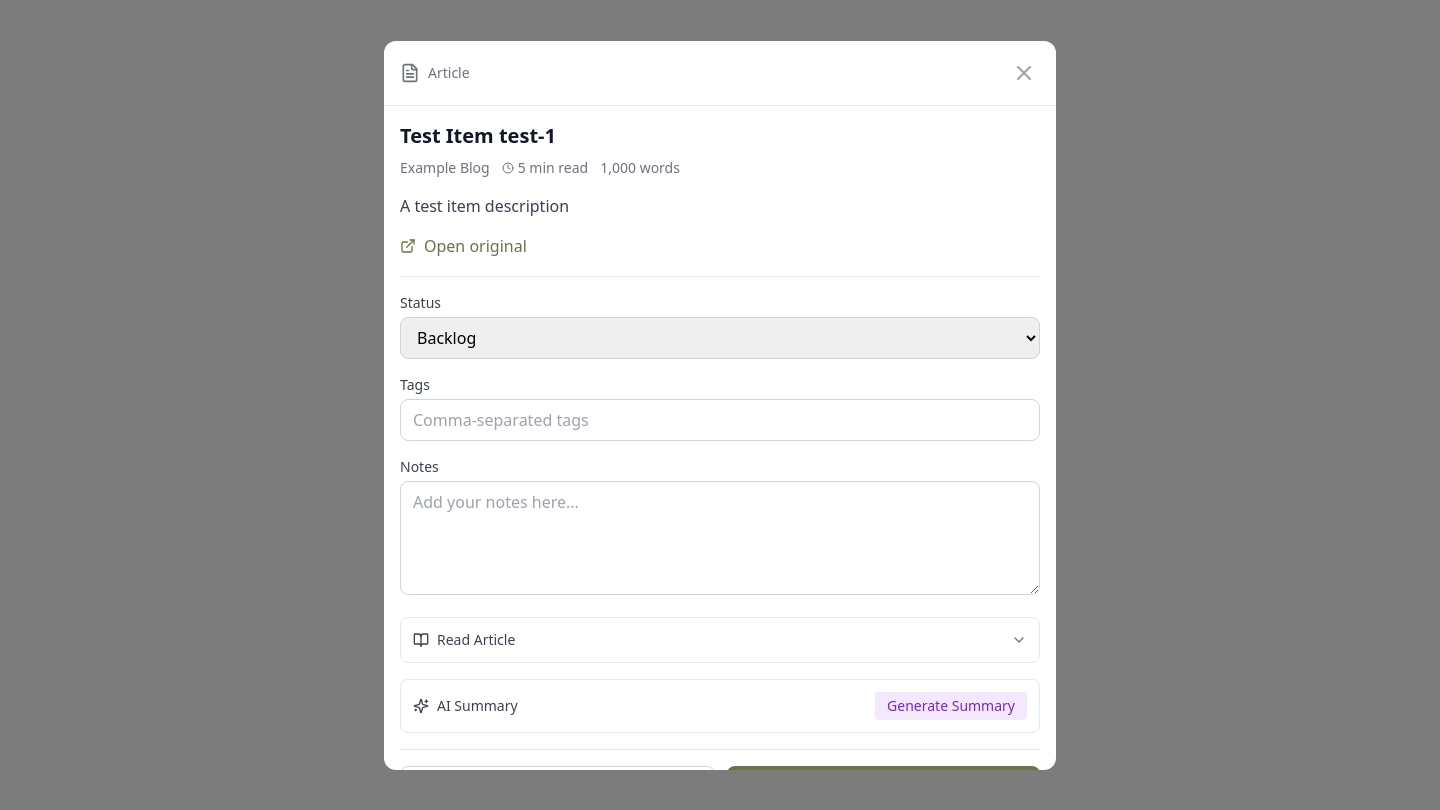
Scenario: InterestDetail › AI summary › shows loading state while generating
The image size is (1440, 810).
Step 1. Click the button "Generate Summary" → (951, 706), box [875,692,1027,720]
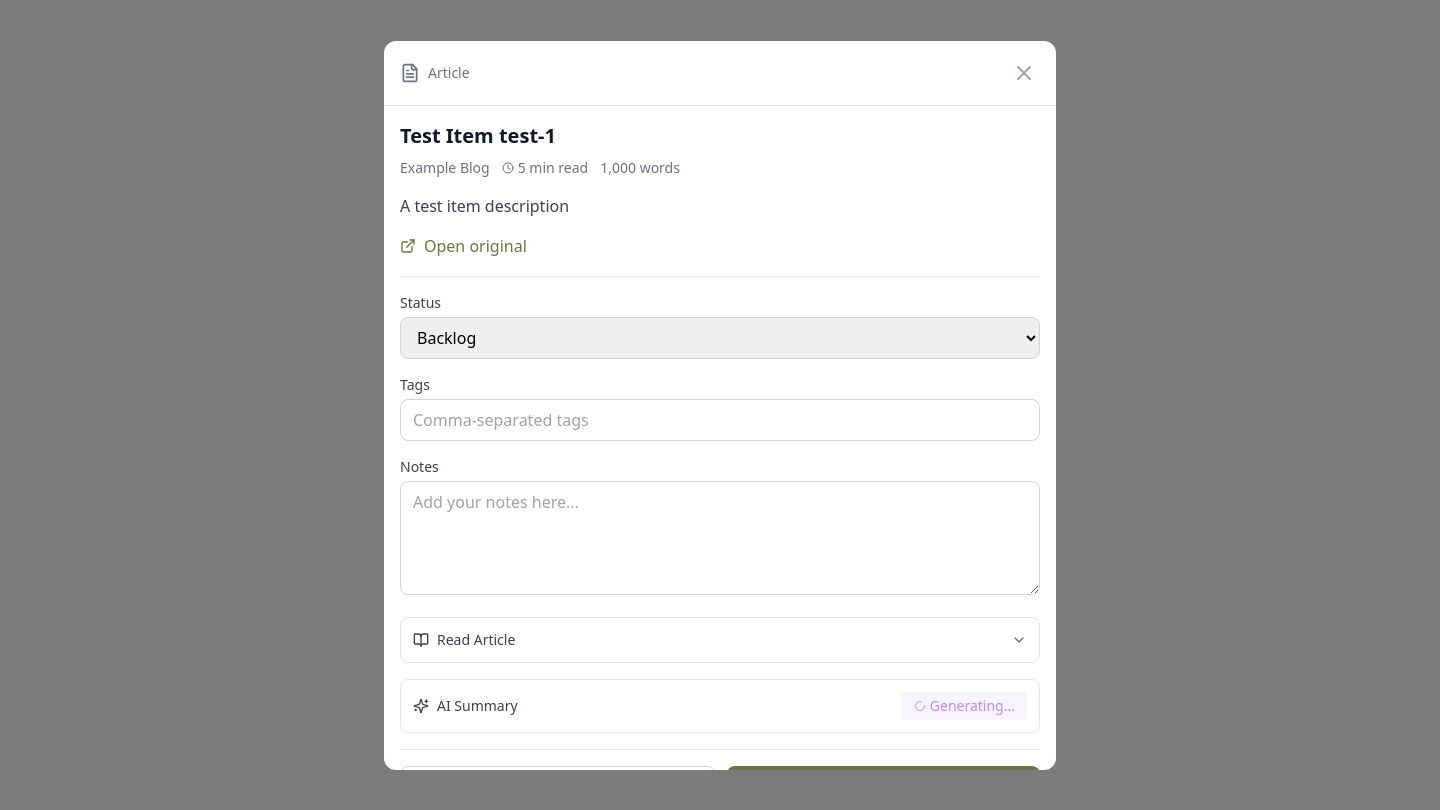
Expected: the button "Generating..." is shown, [902,692,1027,720]
